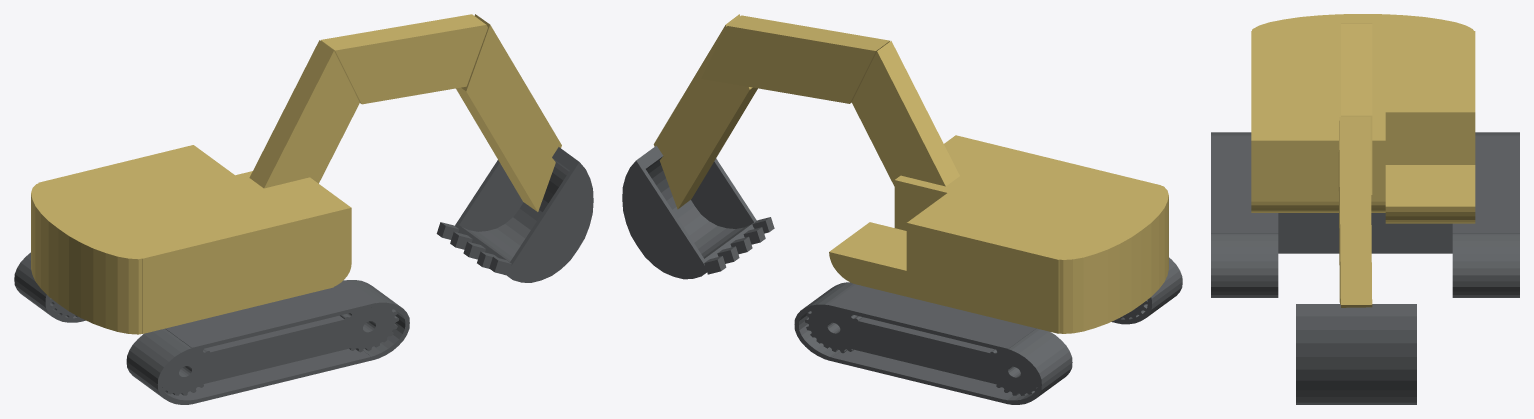
Rendered from Copy of Digger.glb.
3 views of the same model, side by side, from view 1: azimuth 30°, elevation 25°; view 2: azimuth 150°, elevation 25°; view 3: azimuth 270°, elevation 25° (orthographic). The views are drawn at different scales.
Parts seen in each view (by area): view 1: Mesh_Mesh_head_geo.001_lambert2SG.001; view 2: Mesh_Mesh_head_geo.001_lambert2SG.001; view 3: Mesh_Mesh_head_geo.001_lambert2SG.001.
Part boxes in pixels (x1,y1,x2,y2): Mesh_Mesh_head_geo.001_lambert2SG.001: [14, 14, 593, 404]; Mesh_Mesh_head_geo.001_lambert2SG.001: [622, 14, 1182, 404]; Mesh_Mesh_head_geo.001_lambert2SG.001: [1211, 14, 1519, 404].
Bounding box in the file's own units: 0.14 × 0.0691 × 0.069.
